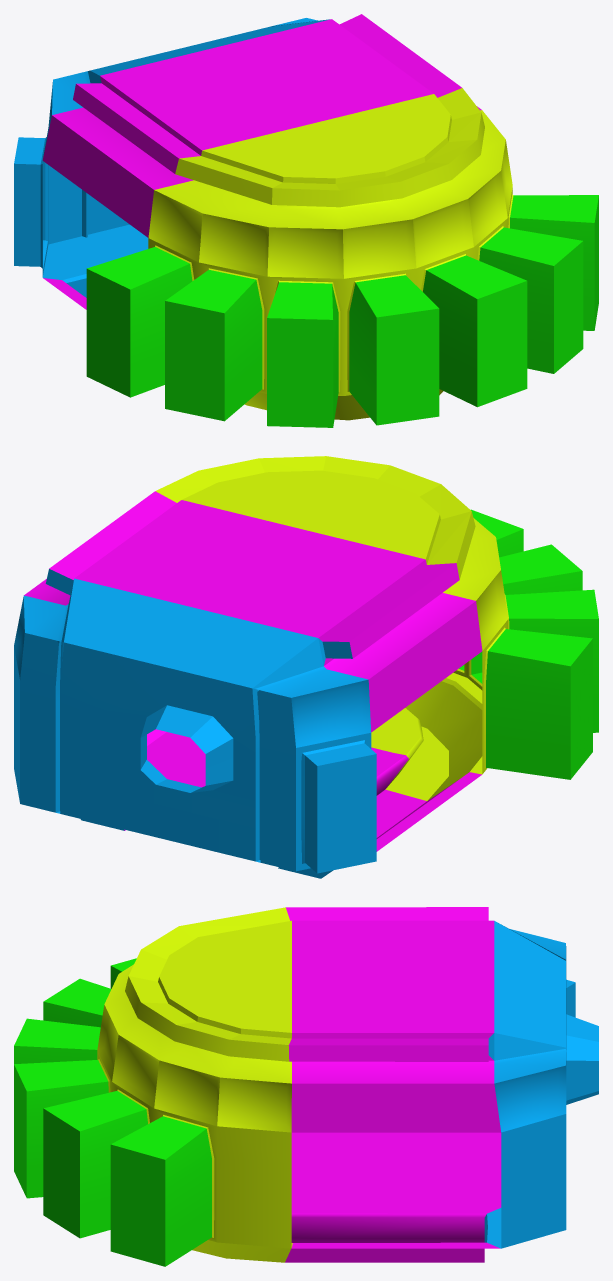
The model's file is Sala.FBX.
3 views of the same model, one above another, from view 1: azimuth 30°, elevation 25°; view 2: azimuth 150°, elevation 25°; view 3: azimuth 270°, elevation 25° (orthographic). The views are drawn at different scales.
Parts seen in each view (by area): view 1: Capsulas2, Capsulas1, Medio, Capsulas3; view 2: Capsulas3, Medio, Capsulas1, Capsulas2; view 3: Medio, Capsulas1, Capsulas2, Capsulas3.
Boxes of the visible parts, <box> form: Capsulas2: <box>86,195,598,427</box>; Capsulas1: <box>148,88,513,420</box>; Medio: <box>42,14,481,309</box>; Capsulas3: <box>14,18,329,297</box>; Capsulas3: <box>14,569,376,878</box>; Medio: <box>24,491,482,851</box>; Capsulas1: <box>155,456,509,800</box>; Capsulas2: <box>459,509,598,779</box>; Medio: <box>285,907,501,1262</box>; Capsulas1: <box>97,907,292,1262</box>; Capsulas2: <box>14,958,211,1266</box>; Capsulas3: <box>484,921,598,1248</box>.
Bounding box in the file's own units: 9.64 × 4.69 × 10.73.
